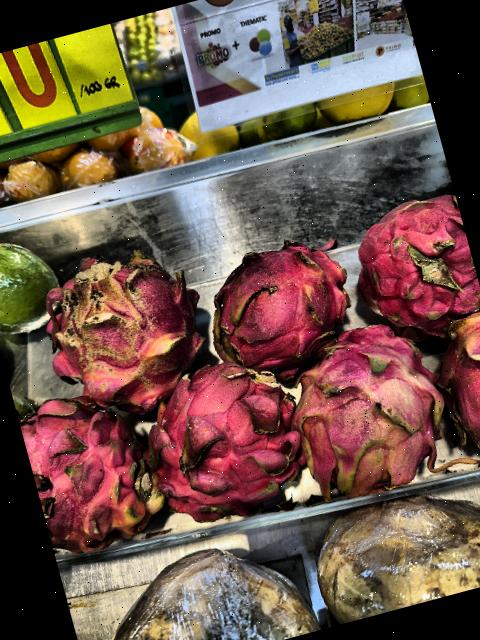buah-naga-belum-matang: (280, 313, 464, 513), (14, 373, 176, 564), (422, 304, 480, 465)
buah-naga-matang: (24, 232, 220, 424), (130, 339, 316, 532), (182, 209, 372, 384), (334, 181, 480, 359)
